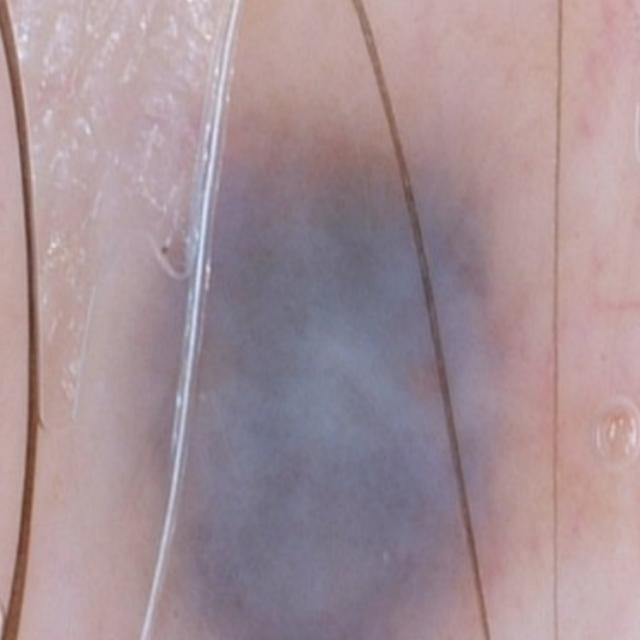Melanoma: (128, 119, 503, 640)
